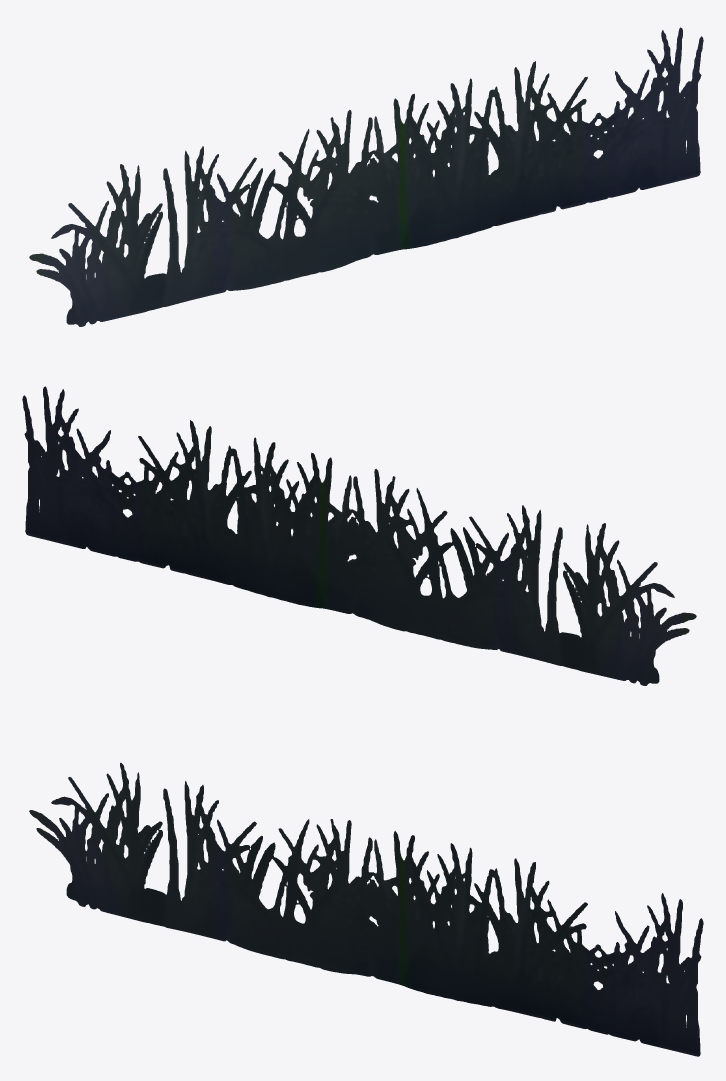
The model's file is HuBian_NightZhiwu10_fbx.FBX.
The picture shows the model from 3 angles, top to bottom: view 1: azimuth 30°, elevation 25°; view 2: azimuth 150°, elevation 25°; view 3: azimuth 330°, elevation 25°; orthographic projection.
Visible parts, largest first — view 1: Object026; view 2: Object026; view 3: Object026.
Boxes of the visible parts, bbox=[...] form: Object026: bbox=[29, 27, 703, 326]; Object026: bbox=[22, 386, 696, 685]; Object026: bbox=[29, 763, 703, 1056].
Bounding box in the file's own units: 3.23 × 0.7411 × 7.9e-07.
1 material, 1 textured.
